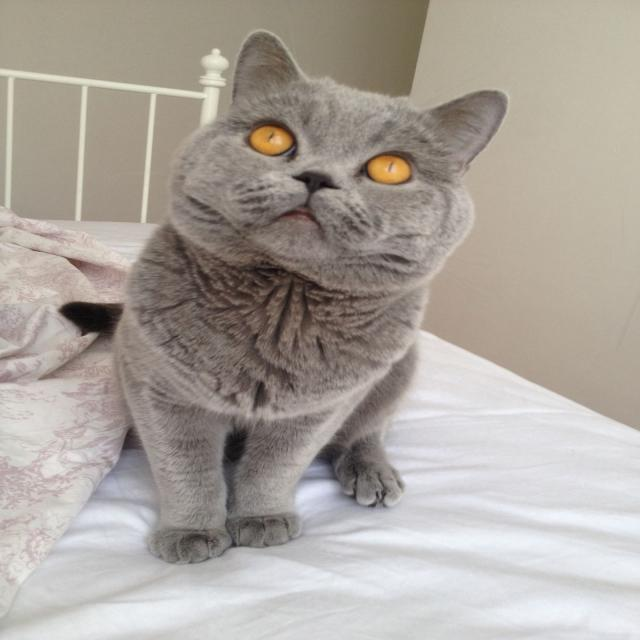british shorthair: (61, 31, 507, 564)
